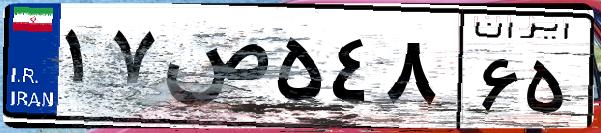1: (57, 26, 110, 100)
4: (330, 28, 385, 110)
5: (270, 28, 330, 110), (525, 38, 570, 115)
6: (475, 38, 525, 113)
7: (110, 28, 158, 98)
8: (385, 28, 445, 110)
ص: (158, 20, 270, 120)
